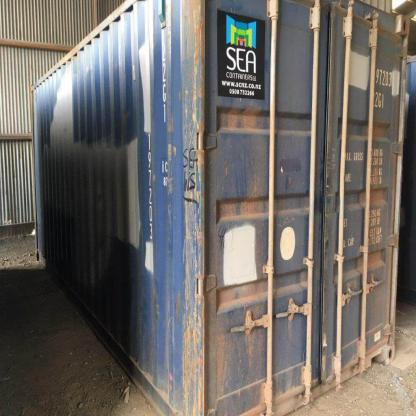Damage: (178, 2, 206, 415), (209, 275, 270, 415), (128, 235, 175, 405), (359, 116, 388, 282), (160, 101, 176, 253), (213, 181, 268, 222), (217, 93, 266, 133), (84, 174, 115, 220), (112, 108, 138, 126)
